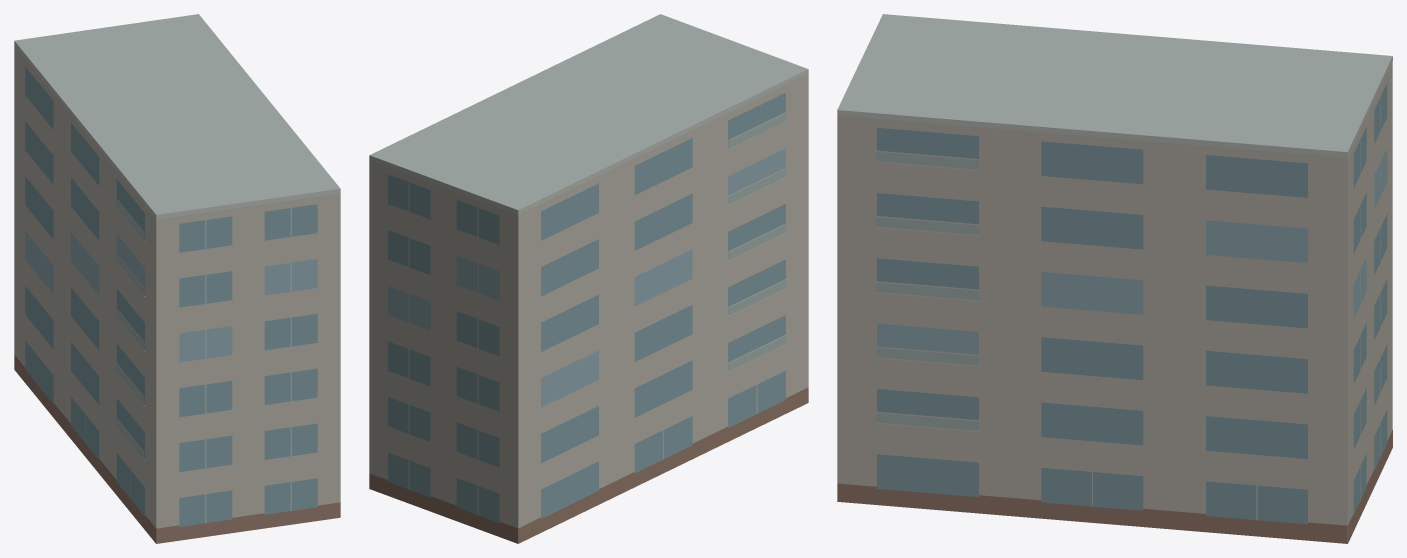
The model's file is survey-upis-32653472.glb.
3 views of the same model, side by side, from view 1: azimuth 30°, elevation 25°; view 2: azimuth 150°, elevation 25°; view 3: azimuth 270°, elevation 25° (orthographic). The views are drawn at different scales.
Parts seen in each view (by area): view 1: survey-upis-32653472.tmp; view 2: survey-upis-32653472.tmp; view 3: survey-upis-32653472.tmp.
Boxes of the visible parts, left/top/right/bottom form: survey-upis-32653472.tmp: left=14, top=14, right=340, bottom=543; survey-upis-32653472.tmp: left=369, top=14, right=808, bottom=543; survey-upis-32653472.tmp: left=837, top=14, right=1392, bottom=543.
Bounding box in the file's own units: 13.4 × 17.7 × 22.76.
